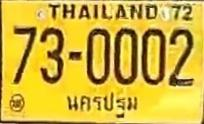0: (140, 27, 166, 84), (86, 27, 110, 84), (113, 27, 137, 84)
2: (168, 27, 194, 86)
3: (38, 26, 64, 83)
7: (12, 26, 36, 84)
NPT: (62, 88, 144, 123)
